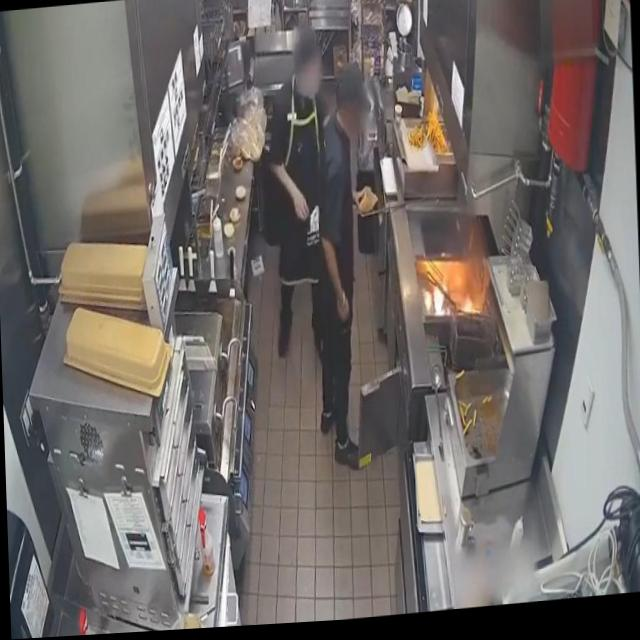fire: (428, 277, 478, 327)
